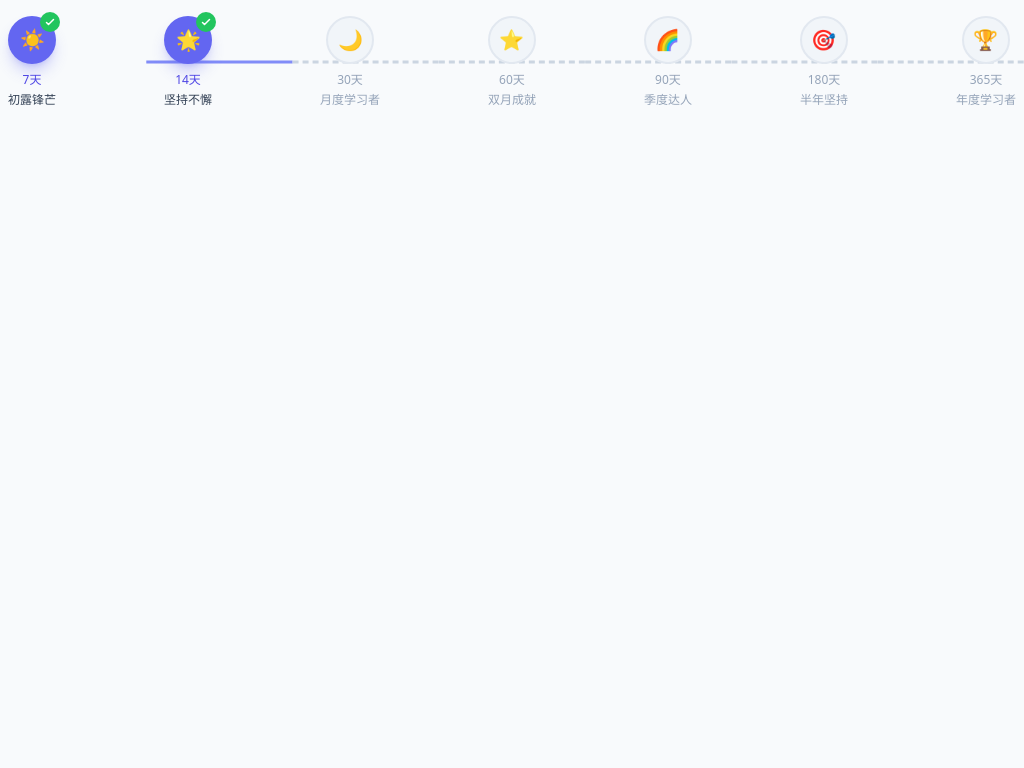
it: MilestonePath › Detail Popup › shows unlocked status in popup for unlocked milestones
Click the button with test id "milestone-node-7-days": point(32, 40) [8,16,56,64]
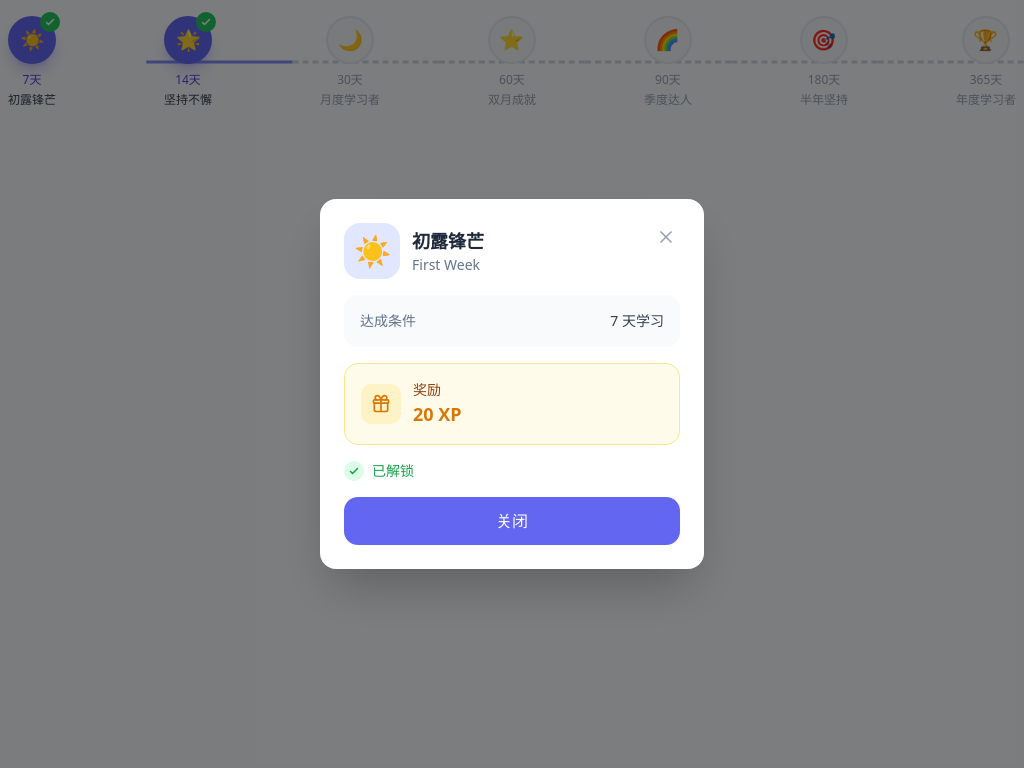
Expected: the text "已解锁" is shown, [372,461,414,481]
